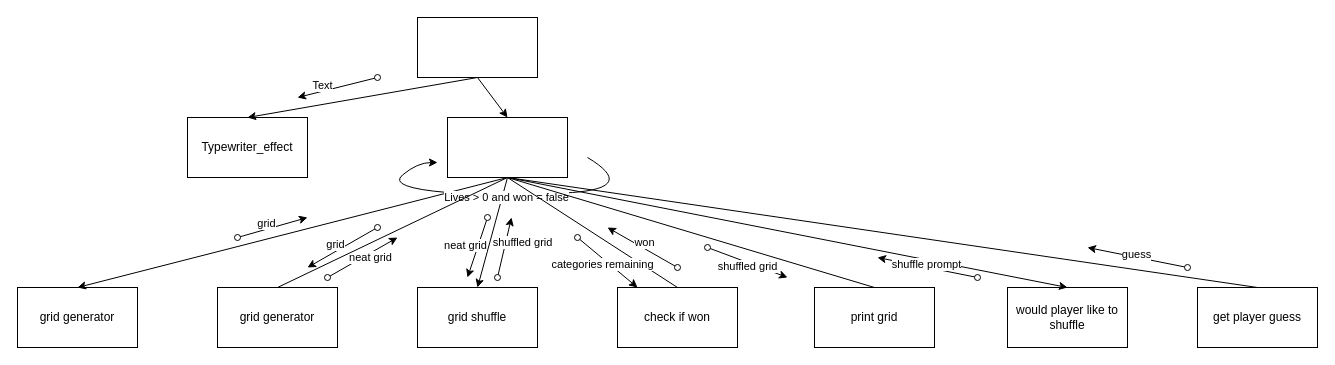
Image size: 1335x365. Some labels were removed from this diagram. The shapes that lost their labels are listed below. From the top down, each one's centre as x and y in pixels, then its label:
At (x=477, y=47): "Start game".
At (x=507, y=147): "play game".
